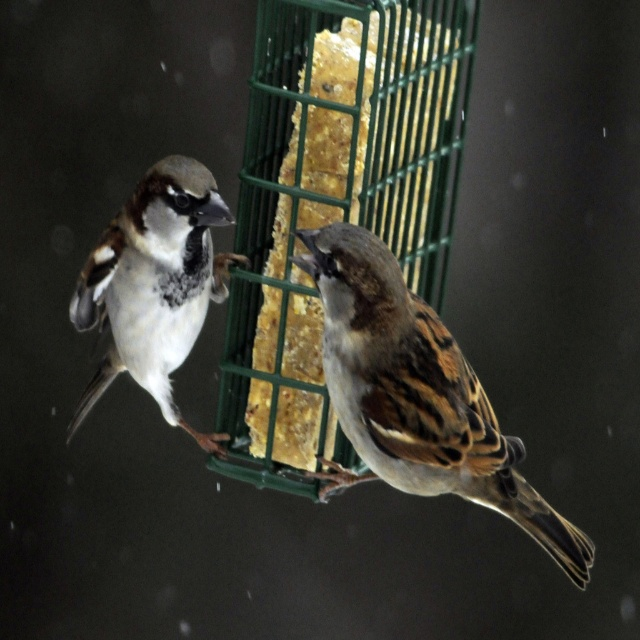Sparrow: (288, 222, 597, 593), (62, 152, 252, 462)
